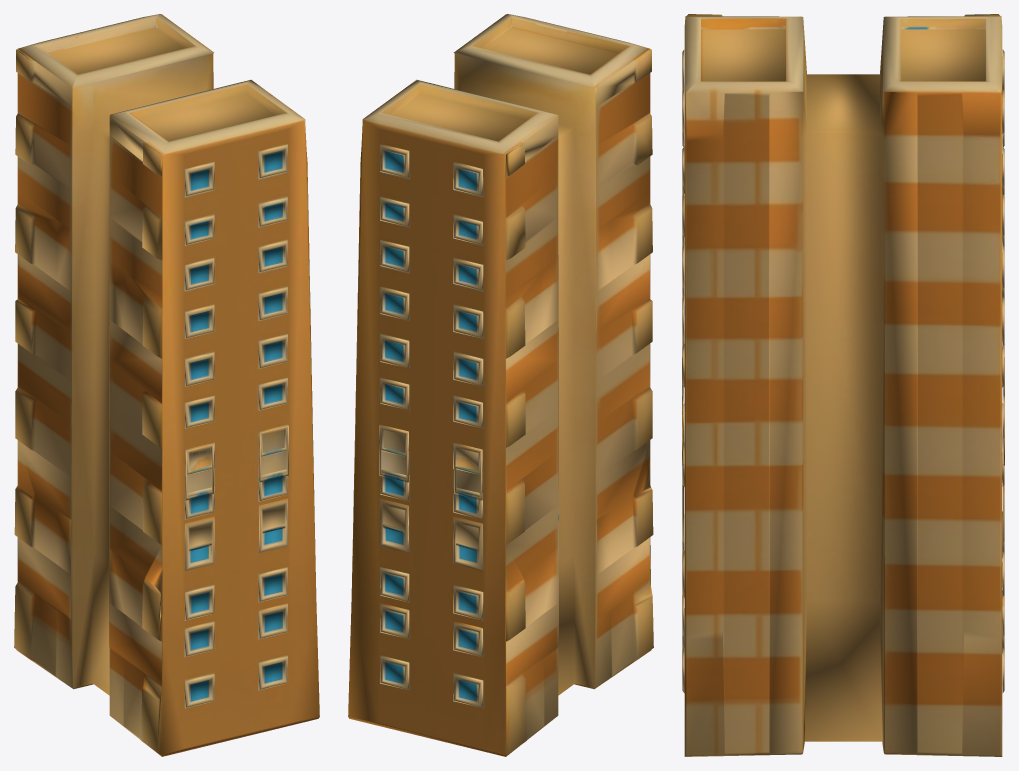
File: apartemen.glb
3 views of the same model, side by side, from view 1: azimuth 30°, elevation 25°; view 2: azimuth 150°, elevation 25°; view 3: azimuth 270°, elevation 25° (orthographic). The views are drawn at different scales.
Parts seen in each view (by area): view 1: tripo_node_3d480009; view 2: tripo_node_3d480009; view 3: tripo_node_3d480009.
Boxes of the visible parts, left/top/right/bottom form: tripo_node_3d480009: left=14, top=14, right=319, bottom=756; tripo_node_3d480009: left=348, top=14, right=653, bottom=756; tripo_node_3d480009: left=682, top=14, right=1004, bottom=756.
Bounding box in the file's own units: 0.2785 × 1 × 0.4419.
1 material, 1 textured.
